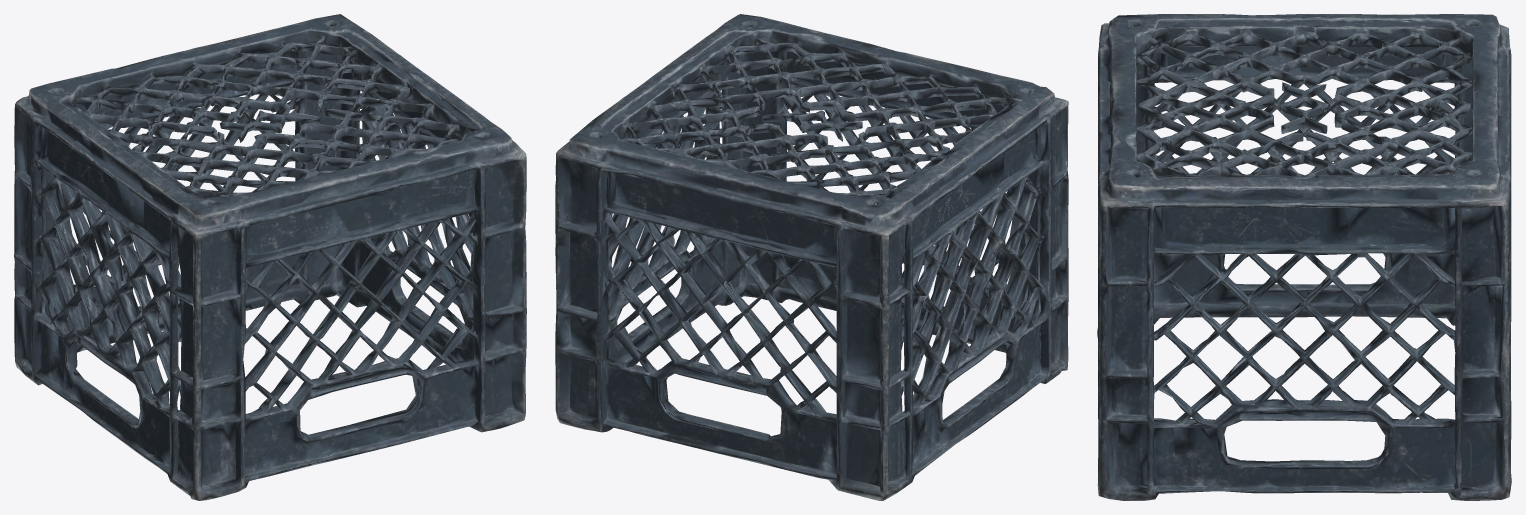
File: desktop.glb
3 views of the same model, side by side, from view 1: azimuth 30°, elevation 25°; view 2: azimuth 150°, elevation 25°; view 3: azimuth 270°, elevation 25° (orthographic). The views are drawn at different scales.
Visible parts, largest first — view 1: d-milktable; view 2: d-milktable; view 3: d-milktable.
Part boxes in pixels (x1=…): d-milktable: x1=14, y1=14, x2=526, y2=500; d-milktable: x1=555, y1=14, x2=1068, y2=500; d-milktable: x1=1097, y1=14, x2=1511, y2=500.
Size of the model in its own units: 0.3499 by 0.2782 by 0.334.
1 material, 1 textured.
